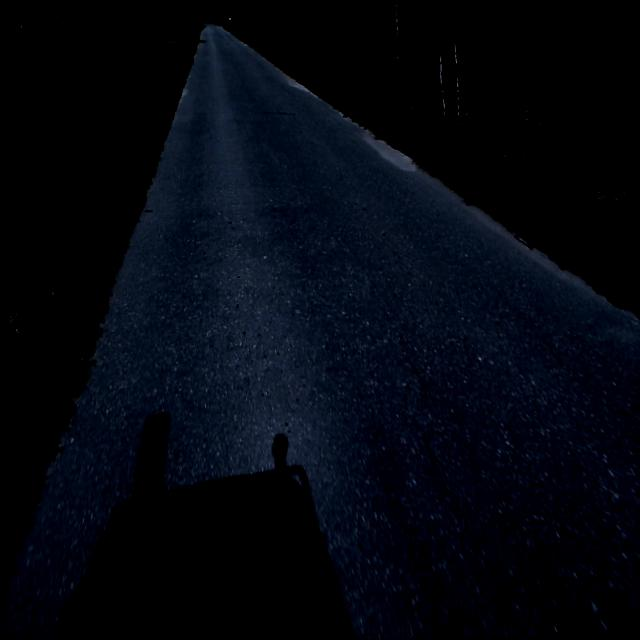road: (5, 23, 640, 640)
